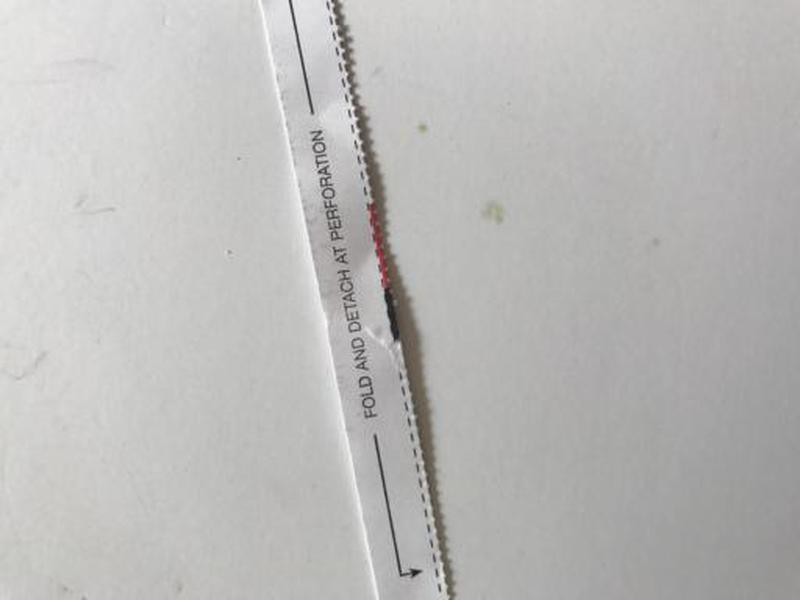paper: (254, 1, 453, 600)
